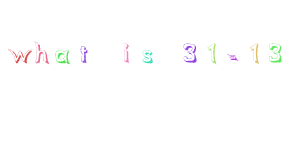-: (222, 48, 242, 68)
1: (243, 36, 265, 70), (202, 38, 224, 69)
3: (176, 36, 202, 69), (266, 37, 287, 68)
a: (52, 45, 75, 68)
h: (33, 36, 53, 68)
i: (112, 35, 136, 69)
s: (136, 44, 158, 69)
t: (73, 41, 93, 70)
w: (5, 43, 33, 67)
